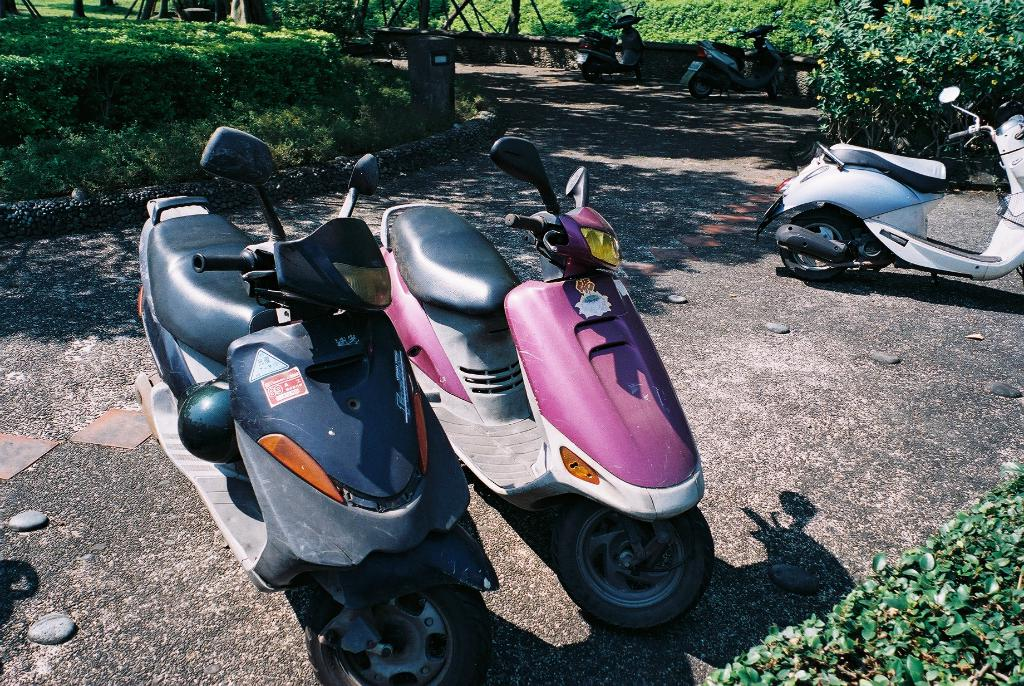Motorcycle: (763, 117, 1019, 297)
